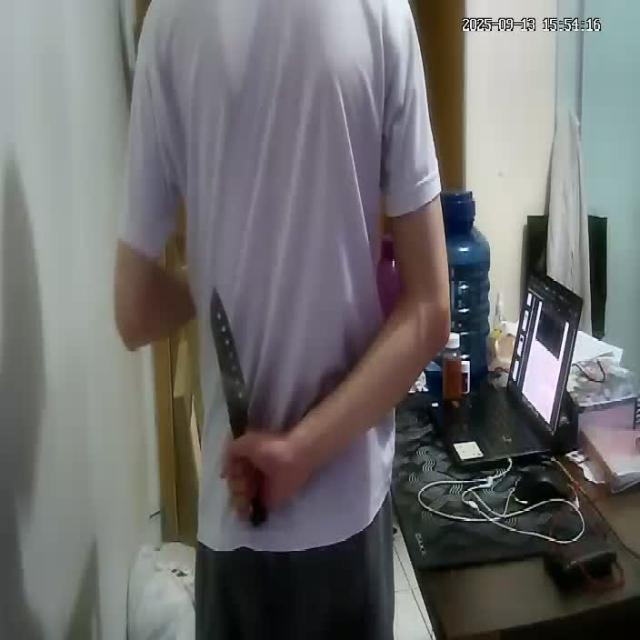senjata_tajam: (207, 285, 251, 439)
